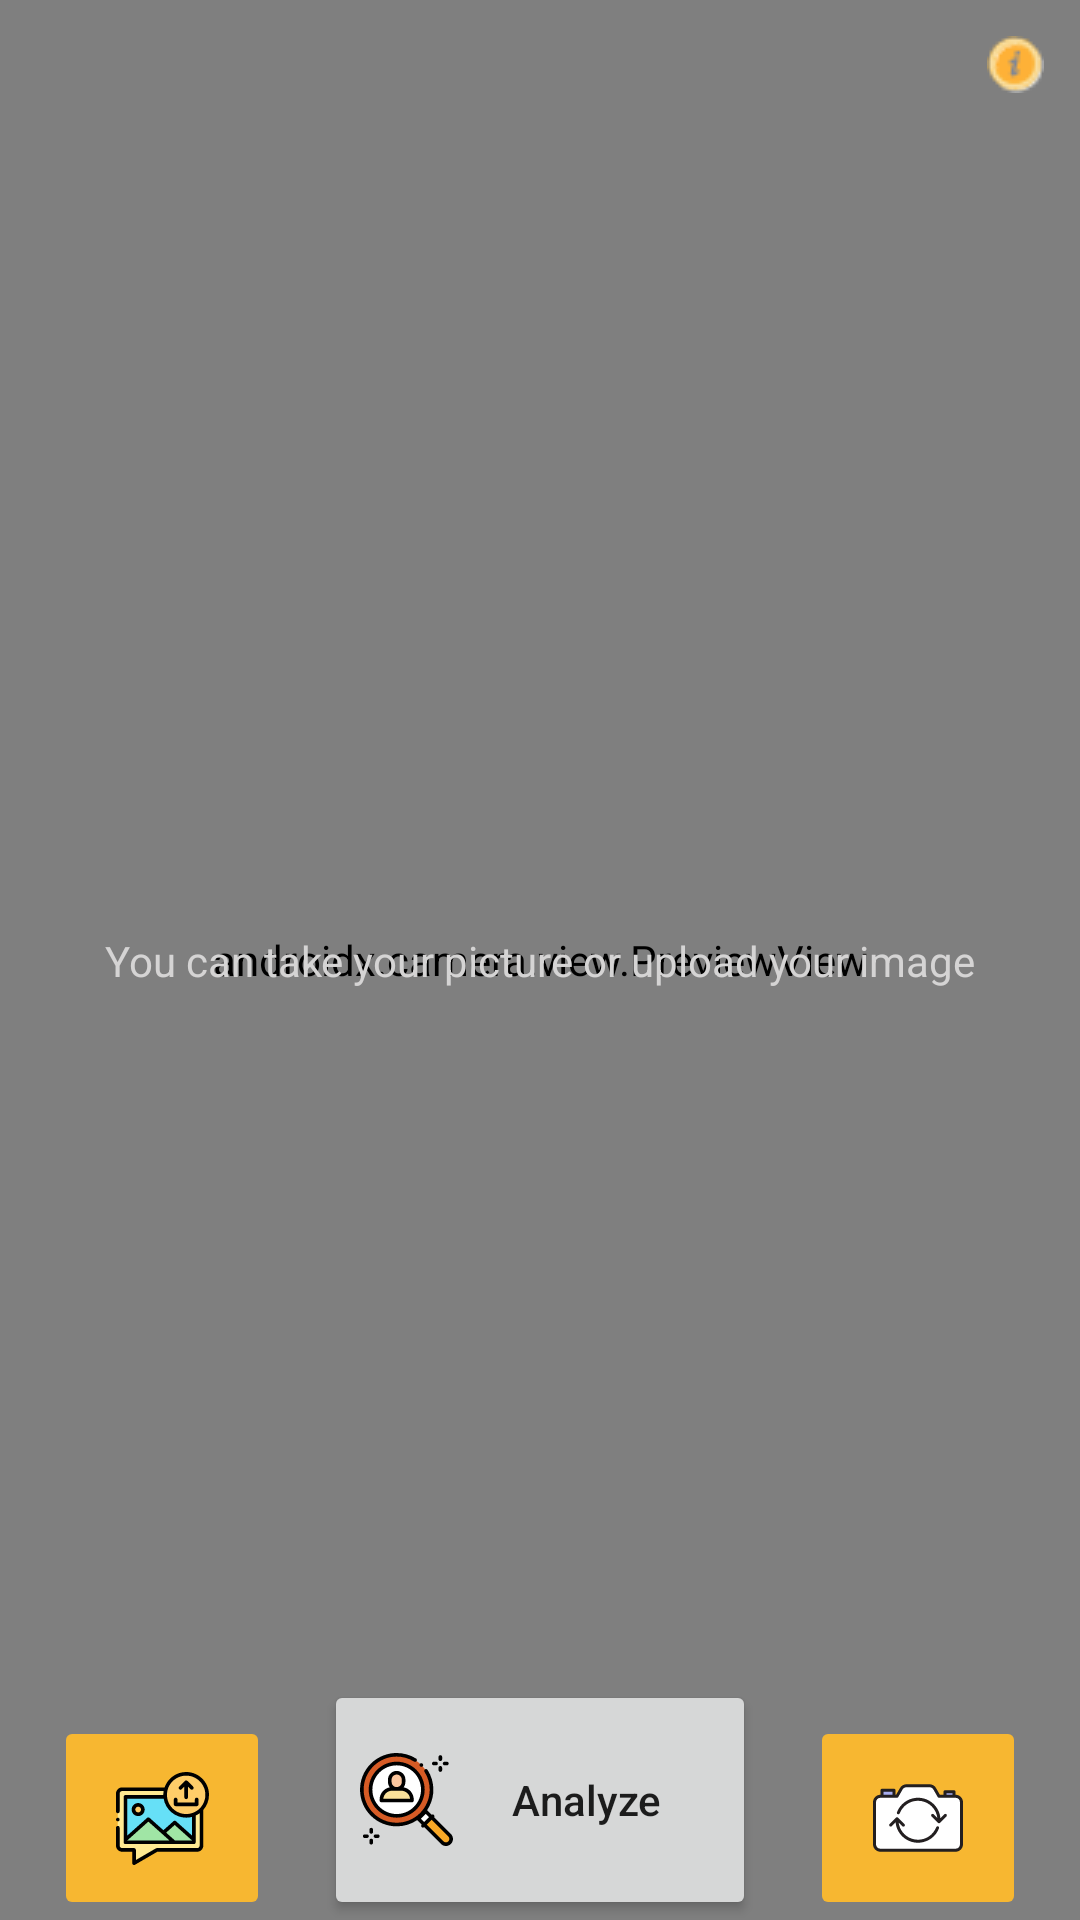

Icons on this 1080 × 1920 Android screen, each with the point to tap as point (x, y):
info button: point (1015, 64)
switch camera: point (918, 1818)
upload: point (162, 1818)
